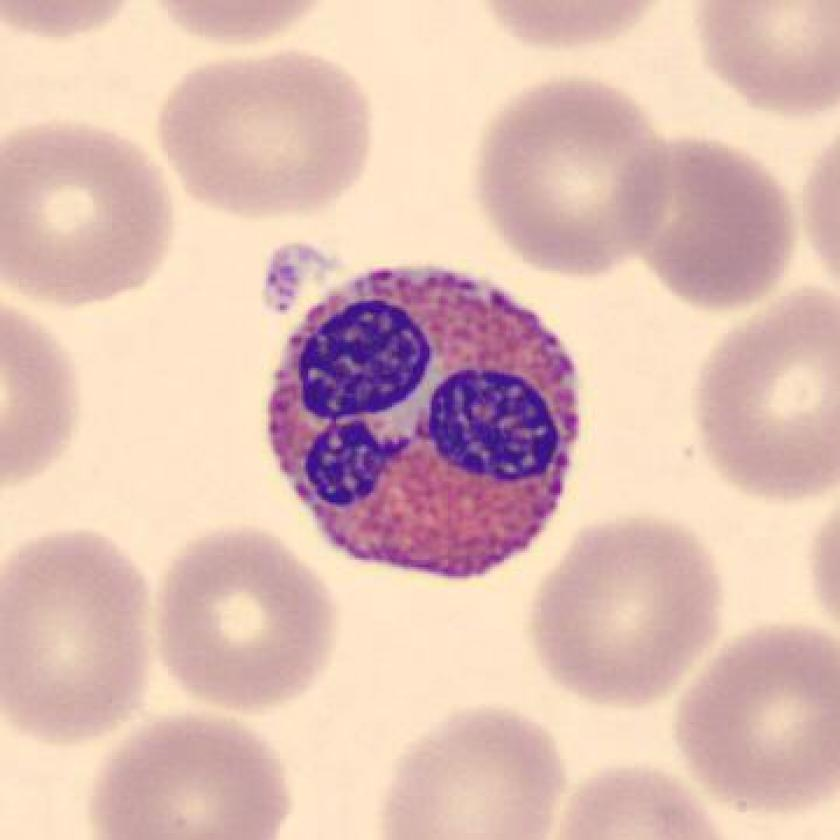eosinophil: (256, 246, 592, 596)
